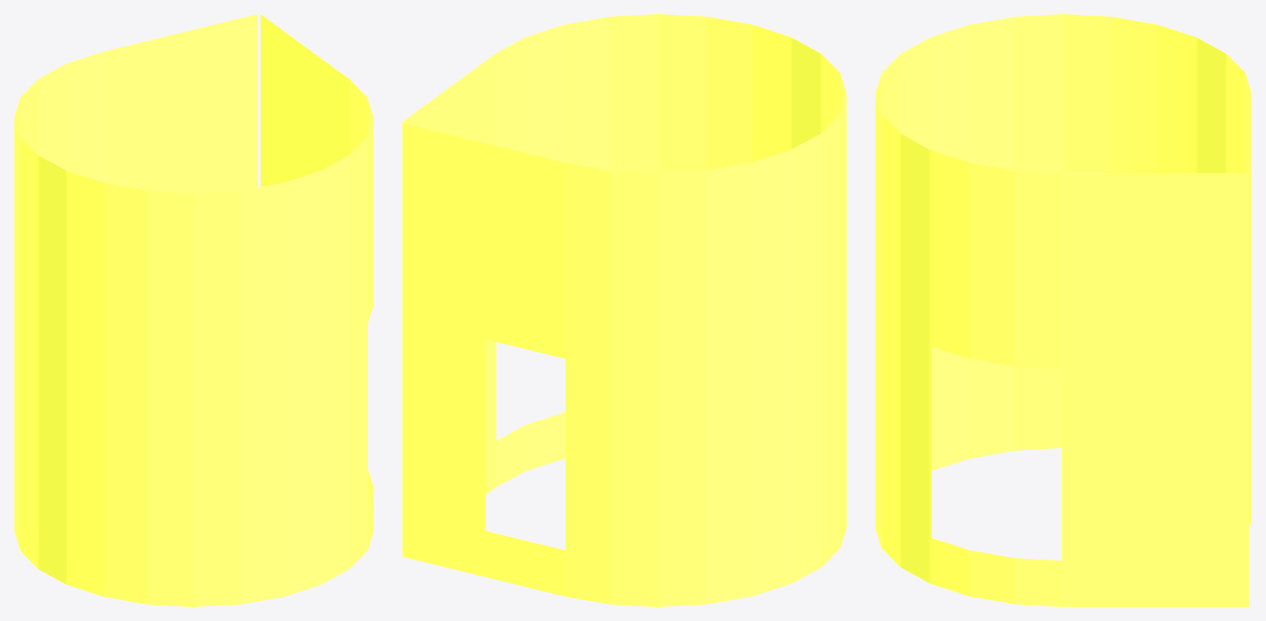
File: Bedaux_3_Bedaux_3_Stijgerdoek.FBX
3 views of the same model, side by side, from view 1: azimuth 30°, elevation 25°; view 2: azimuth 150°, elevation 25°; view 3: azimuth 270°, elevation 25° (orthographic). The views are drawn at different scales.
Parts seen in each view (by area): view 1: Bedaux_3_Bedaux_3_Stijgerdoek; view 2: Bedaux_3_Bedaux_3_Stijgerdoek; view 3: Bedaux_3_Bedaux_3_Stijgerdoek.
Boxes of the visible parts, x1,y1,x2,y2 form: Bedaux_3_Bedaux_3_Stijgerdoek: (14, 14, 373, 606); Bedaux_3_Bedaux_3_Stijgerdoek: (402, 14, 846, 606); Bedaux_3_Bedaux_3_Stijgerdoek: (875, 14, 1251, 606).
Size of the model in its own units: 421 by 421 by 535.
